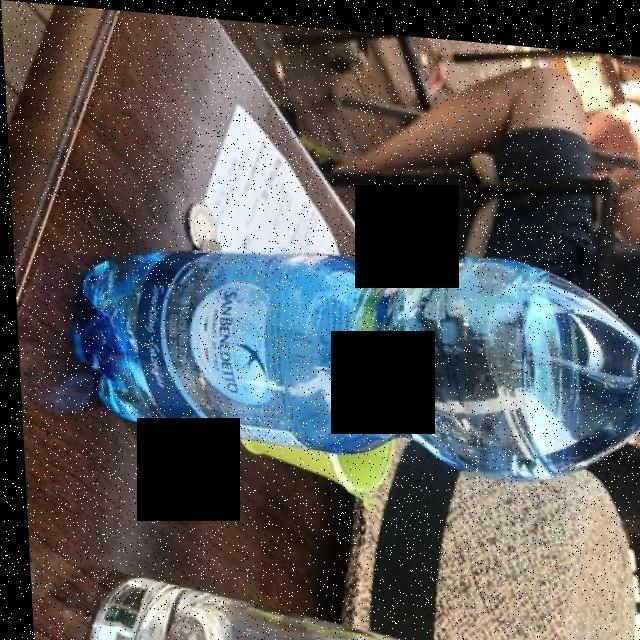water: (87, 255, 557, 458)
